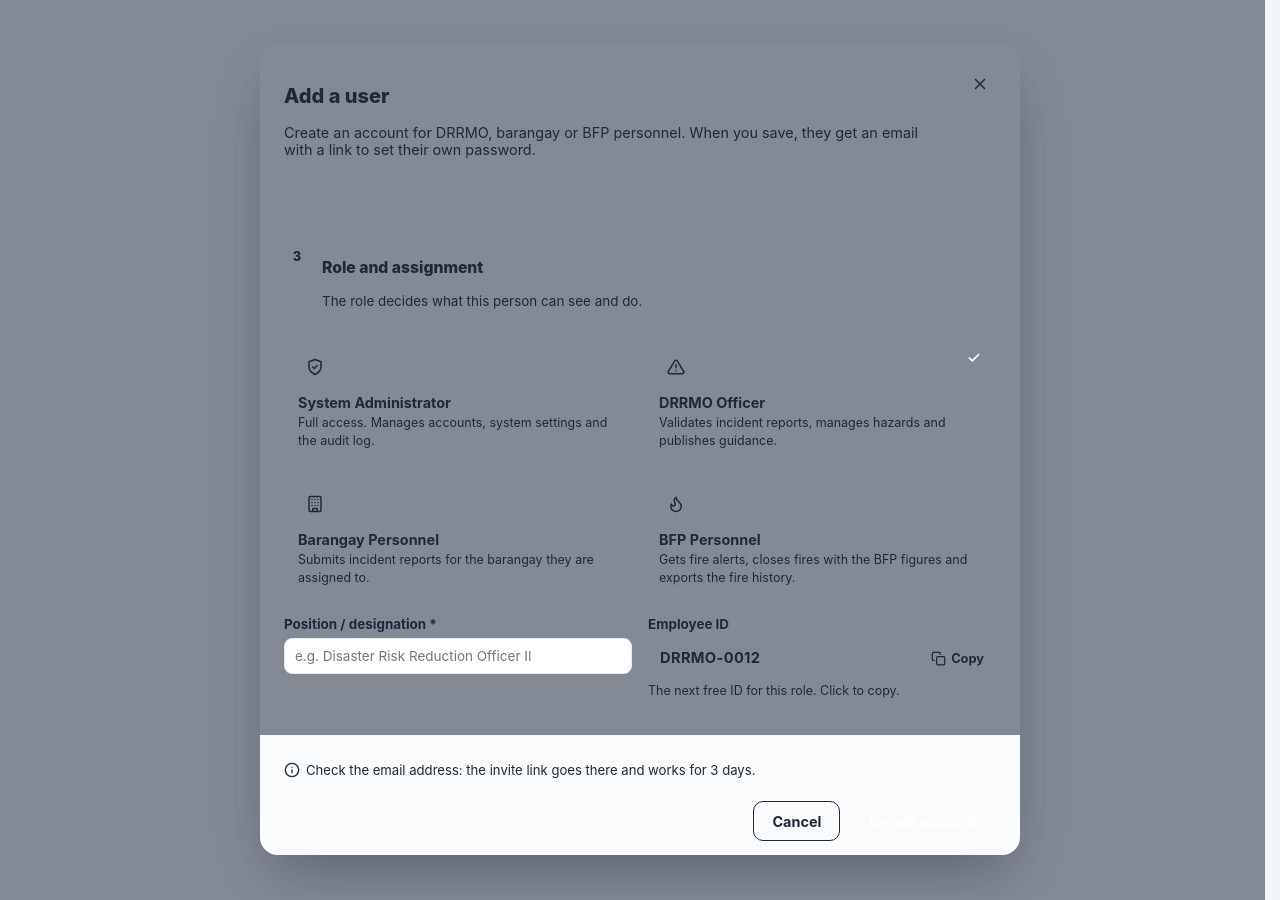
it: a new account shows the real next ID for the chosen role, never "Automatic"
Earlier steps of the test are not shown.
(page scrolled)
Check: the button with class "adm-id-copy" is enabled, box [648, 638, 996, 678]
Check: the button with class "adm-id-copy" shows "DRRMO-0012", box [648, 638, 996, 678]
Click the radio button that starts with "Barangay Personnel": [369, 540] box [284, 473, 635, 600]
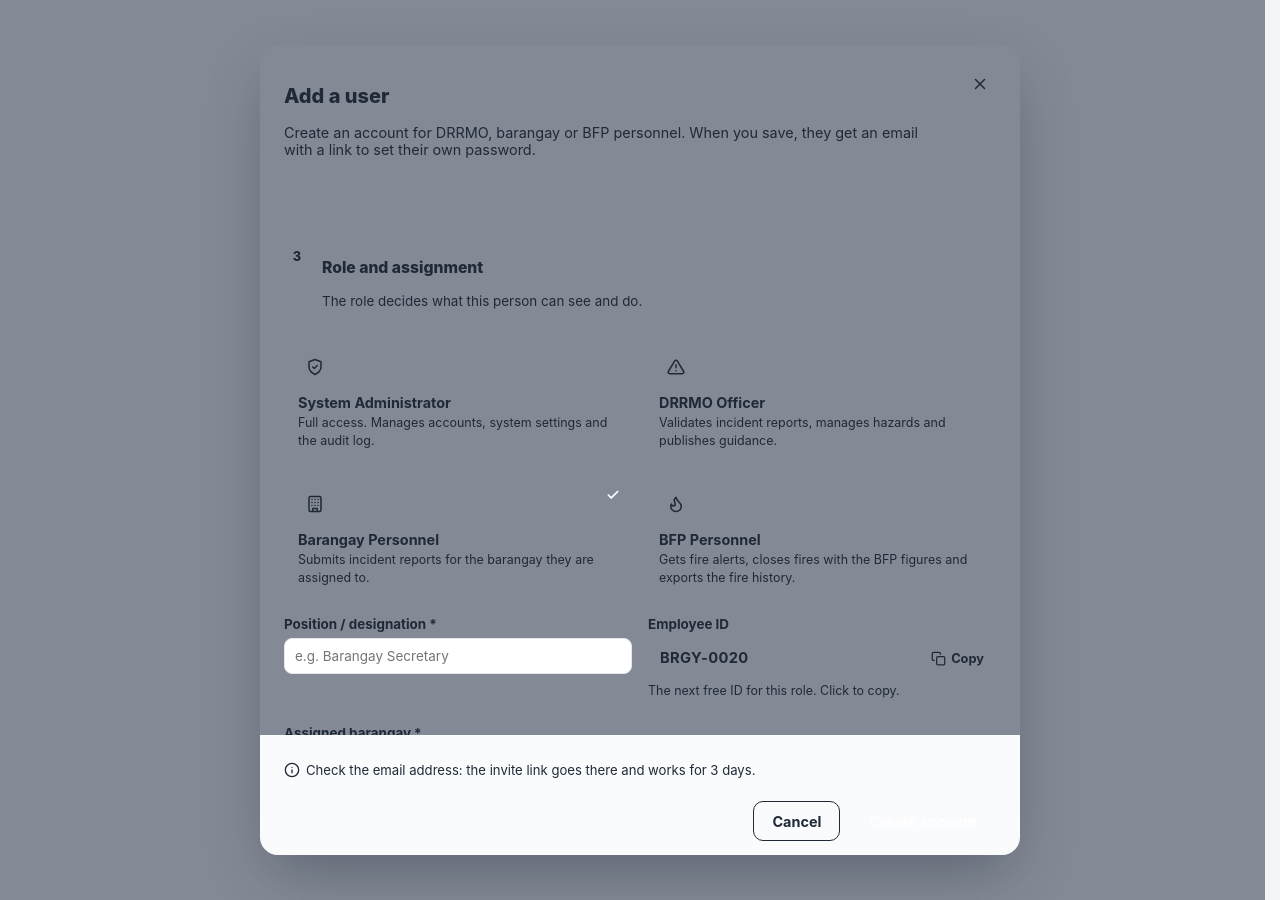
Check: the button with class "adm-id-copy" shows "BRGY-0020", box [648, 638, 996, 678]
